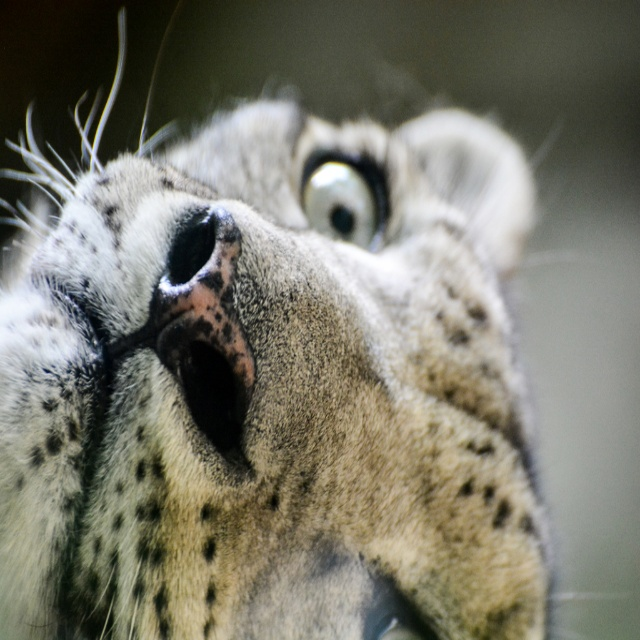Cheetah: (0, 4, 568, 639)
